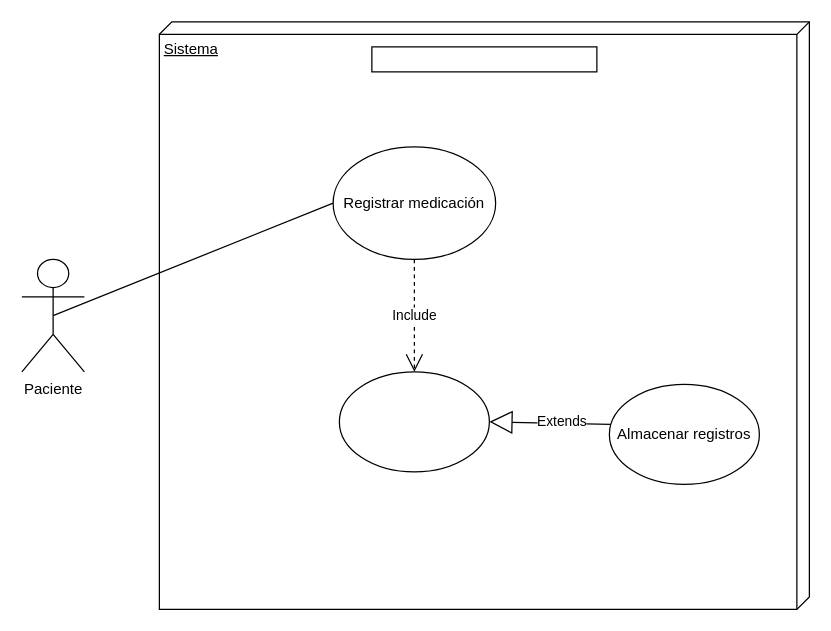
This 831x631 diagram has some shape labels left out. Here are the shapes that lost their labels. From the top down, the box of each, then its label:
(371, 46, 597, 72): Registrar medicamentos
(338, 371, 489, 472): Guardar medicación
